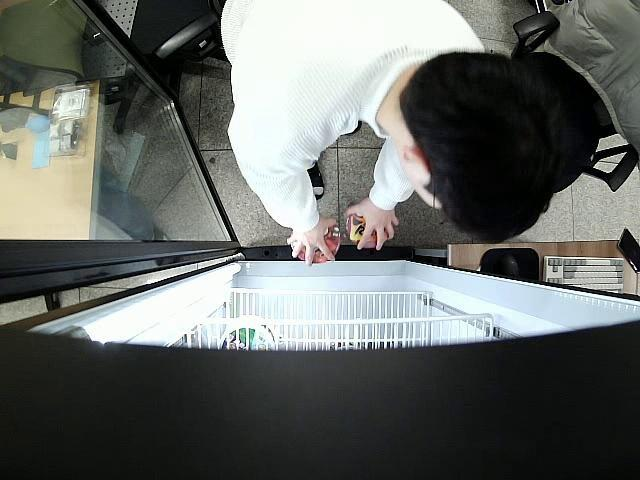05_nuguri_L: (346, 210, 392, 250), (296, 225, 340, 266)
